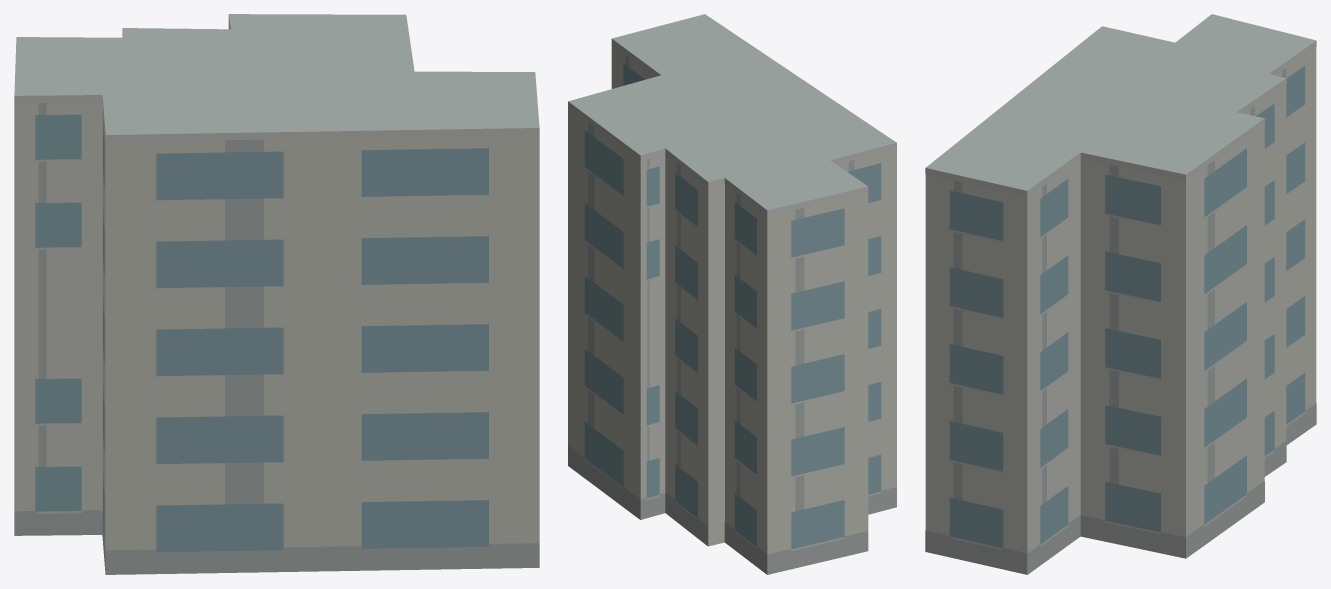
File: survey-upis-32802546.glb
3 renders of one model, left to right at view 1: azimuth 30°, elevation 25°; view 2: azimuth 150°, elevation 25°; view 3: azimuth 270°, elevation 25°, orthographic. The views are drawn at different scales.
Parts seen in each view (by area): view 1: survey-upis-32802546.tmp; view 2: survey-upis-32802546.tmp; view 3: survey-upis-32802546.tmp.
Boxes of the visible parts, box(x1,y1,x2,y2) form: survey-upis-32802546.tmp: box(14, 14, 539, 574); survey-upis-32802546.tmp: box(568, 14, 896, 574); survey-upis-32802546.tmp: box(925, 14, 1316, 574).
Bounding box in the file's own units: 14.63 × 14.8 × 13.67.
